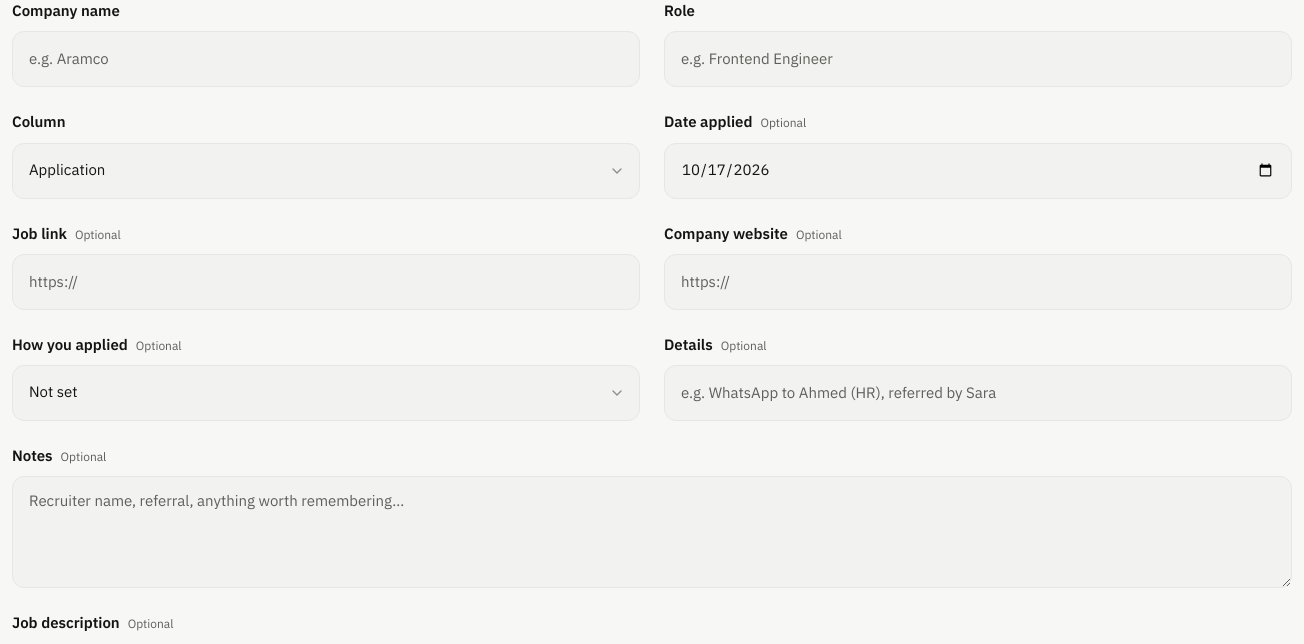
Scenario: job form: description from a pasted link › fills the empty description (and role) automatically
Type "https://careers.deliveryhero.com/job/product-operations-senior-specialist-jid-5731" into the field labelled "Job link" at (326, 282), box [12, 254, 640, 310]
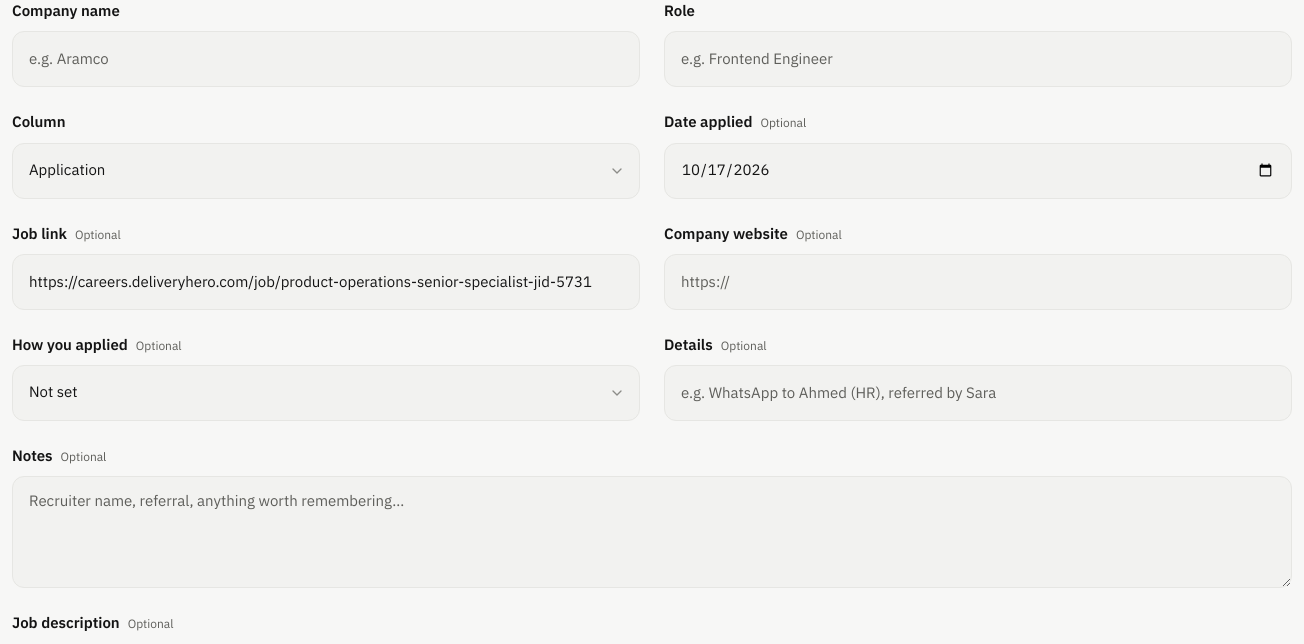
Leave the field labelled "Job link", box [12, 254, 640, 310]
(page scrolled)
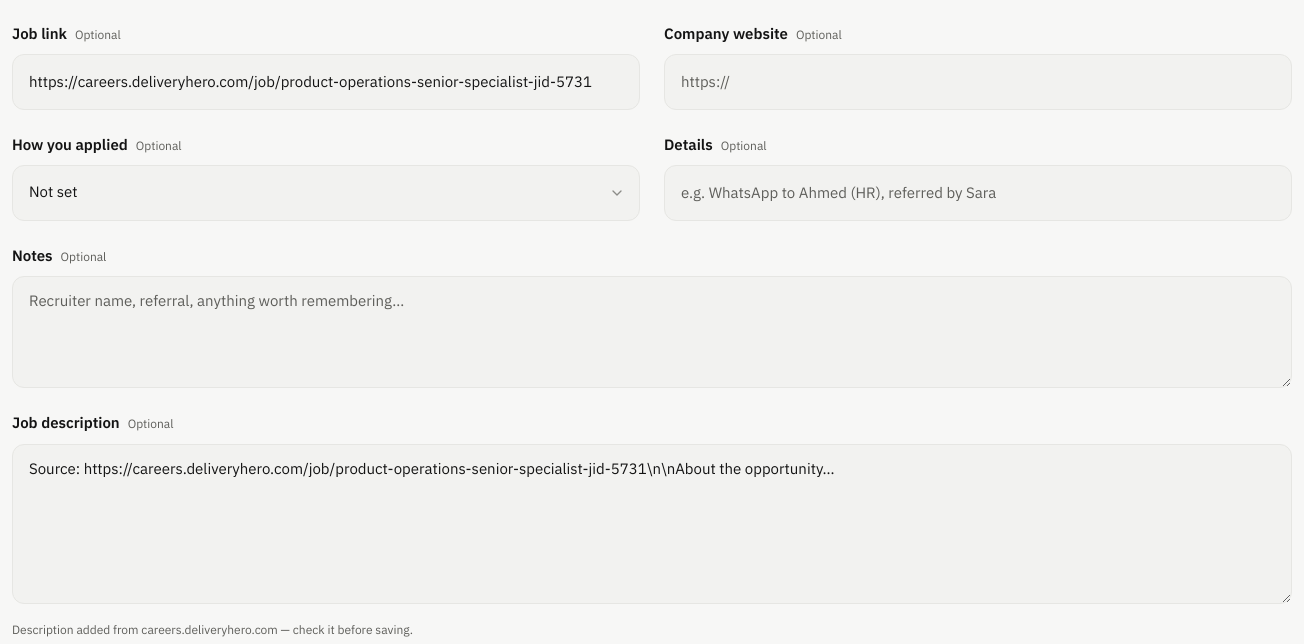
Result: the message shows "Description added from careers.deliveryhero.com" at [12, 620, 413, 638]
